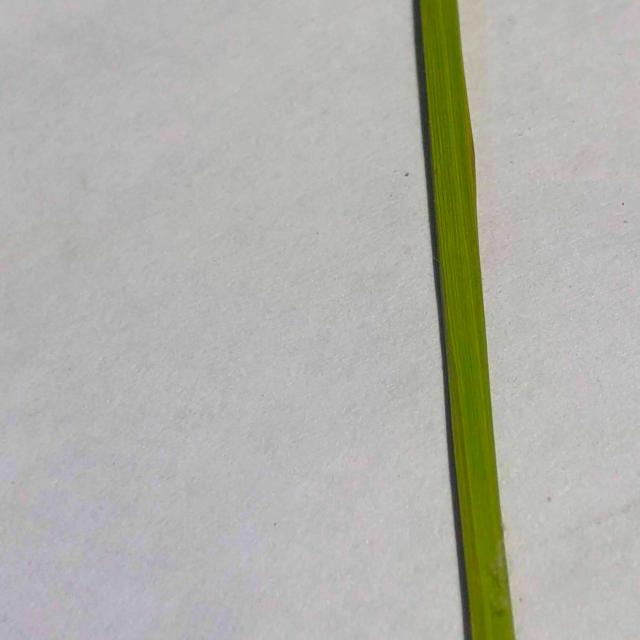Rice_Healthy: (418, 0, 515, 640)
